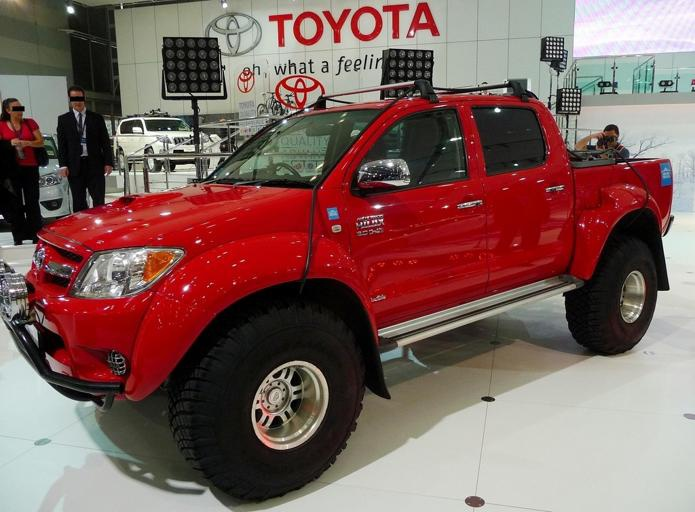non-vehicle: (256, 91, 284, 118), (273, 93, 298, 116)
